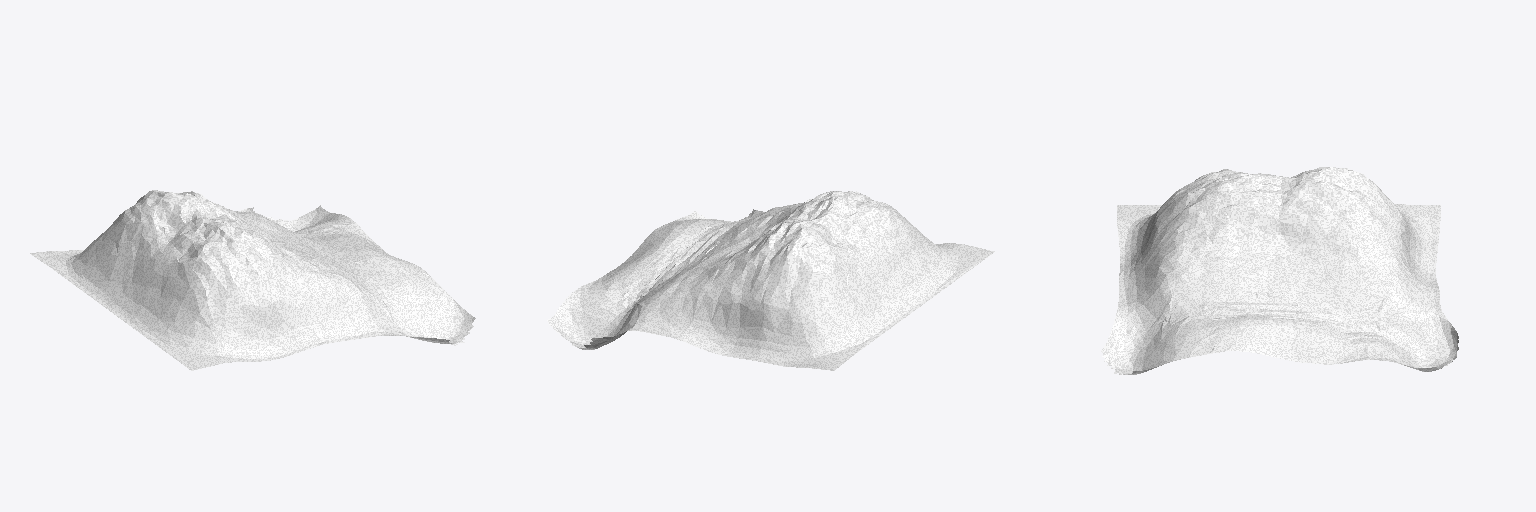
3 renders of one model, left to right at view 1: azimuth 30°, elevation 25°; view 2: azimuth 150°, elevation 25°; view 3: azimuth 270°, elevation 25°, orthographic.
Parts seen in each view (by area): view 1: Landscape; view 2: Landscape; view 3: Landscape.
Boxes of the visible parts, <box> form: Landscape: <box>30,190,475,370</box>; Landscape: <box>547,191,994,370</box>; Landscape: <box>1101,167,1458,374</box>.
Bounding box in the file's own units: 0.426 × 0.1674 × 0.4515.
1 materials, 1 textured.